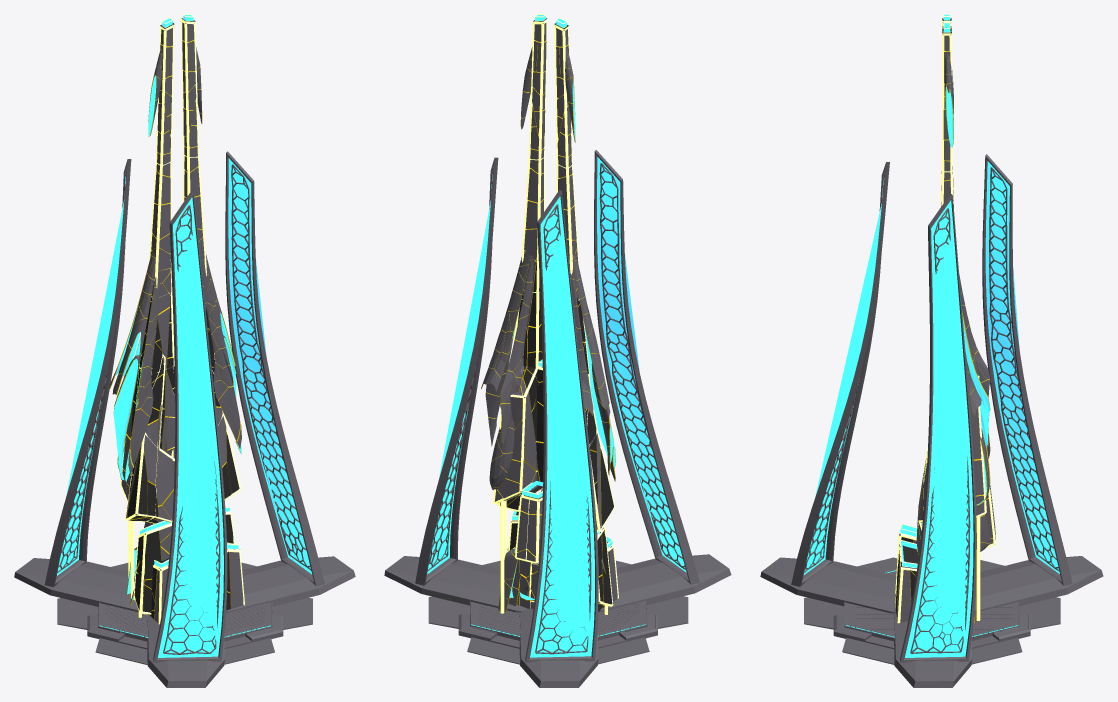
Rendered from future_architectural.glb.
The picture shows the model from 3 angles, left to right: view 1: azimuth 30°, elevation 25°; view 2: azimuth 150°, elevation 25°; view 3: azimuth 270°, elevation 25°; orthographic projection.
Visible parts, largest first — view 1: base_0, glass_3, mat_5, color2_1, panel_4; view 2: base_0, glass_3, mat_5, color2_1, panel_4; view 3: base_0, glass_3, mat_5, panel_4, color2_1.
Part boxes in pixels (bbox=[...]): base_0: bbox=[14, 22, 355, 687]; glass_3: bbox=[57, 15, 312, 657]; mat_5: bbox=[120, 14, 244, 624]; color2_1: bbox=[127, 18, 239, 619]; panel_4: bbox=[109, 40, 240, 619]; base_0: bbox=[384, 23, 731, 687]; glass_3: bbox=[427, 14, 686, 657]; mat_5: bbox=[493, 14, 618, 614]; color2_1: bbox=[506, 18, 613, 612]; panel_4: bbox=[481, 40, 615, 611]; base_0: bbox=[760, 22, 1103, 687]; glass_3: bbox=[803, 14, 1059, 657]; mat_5: bbox=[895, 14, 996, 623]; panel_4: bbox=[897, 51, 992, 623]; color2_1: bbox=[895, 18, 951, 614].
Bounding box in the file's own units: 1.94 × 4.04 × 2.12.
